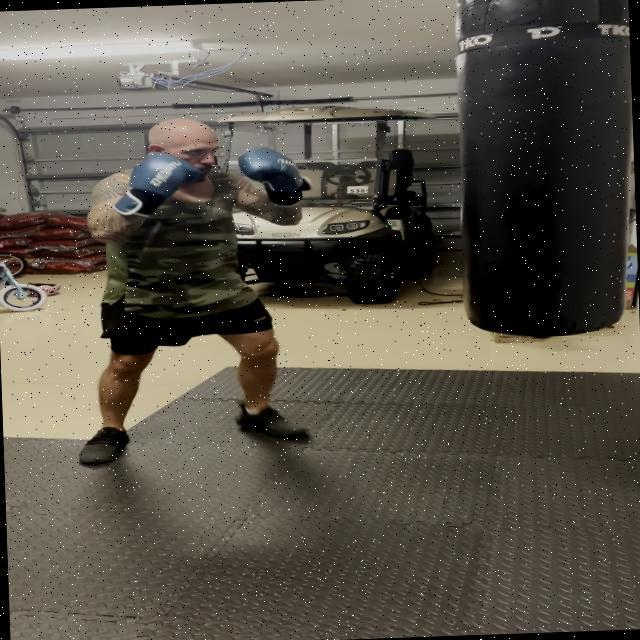bag: (442, 0, 639, 347)
no punch: (70, 108, 333, 265)
